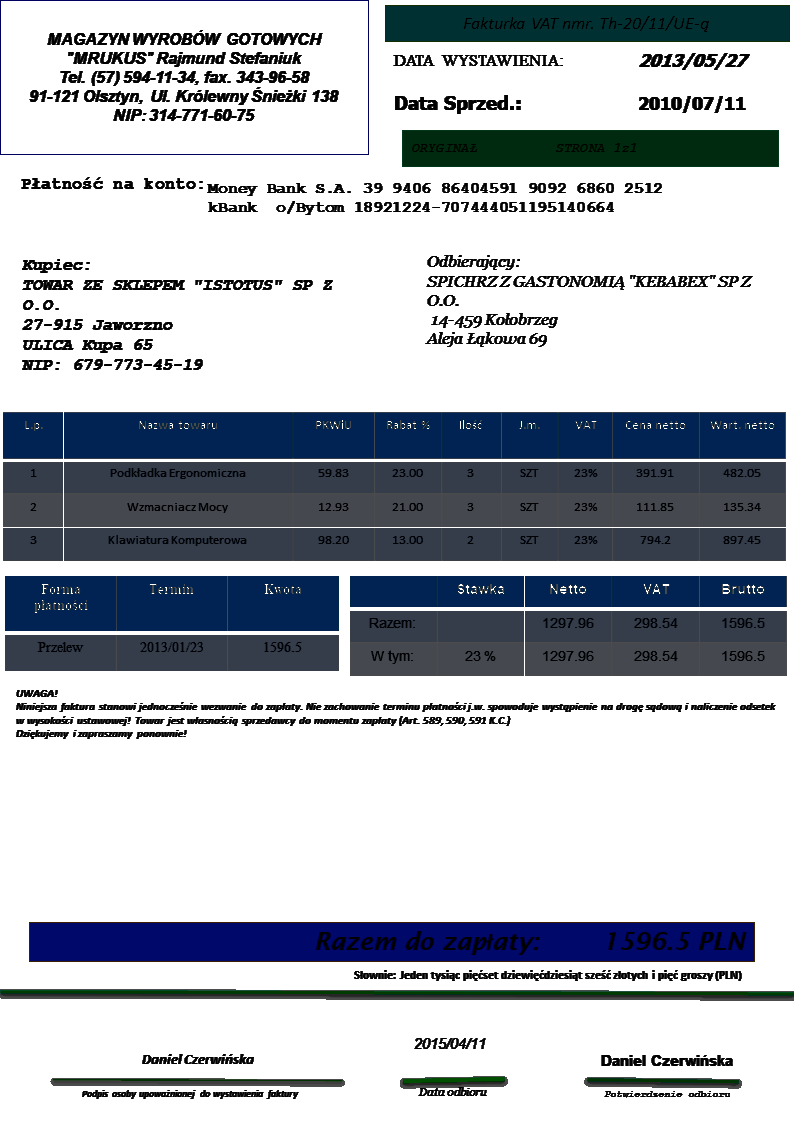Table: (1, 410, 791, 566), (349, 572, 788, 681), (4, 573, 341, 673)
TextBox: (10, 685, 778, 745), (18, 257, 337, 374), (423, 251, 755, 350), (24, 29, 346, 128), (206, 179, 665, 215), (309, 925, 750, 957), (349, 965, 745, 983), (458, 13, 713, 36), (410, 136, 641, 157), (390, 48, 566, 73), (16, 173, 208, 193), (78, 1086, 301, 1103), (391, 91, 524, 115), (597, 1051, 735, 1072), (632, 49, 752, 72), (634, 92, 749, 116), (599, 1086, 734, 1100), (138, 1050, 256, 1066), (410, 1034, 487, 1051), (416, 1085, 490, 1098)
